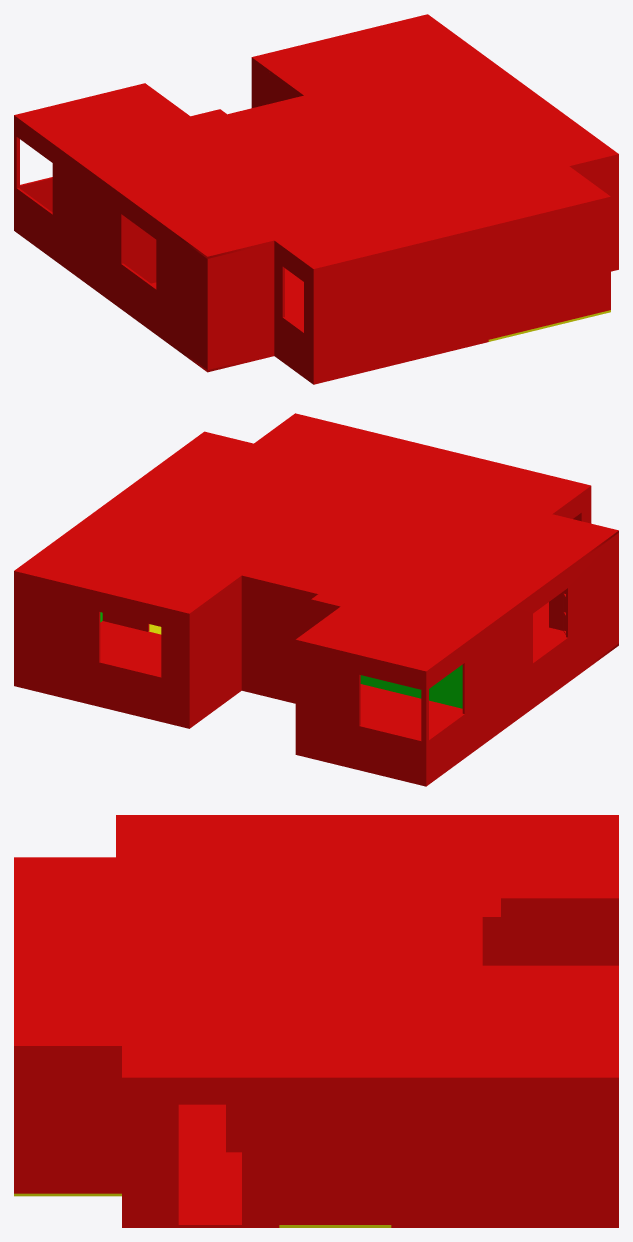
The model's file is target_house_03_grp.fbx.
3 views of the same model, one above another, from view 1: azimuth 30°, elevation 25°; view 2: azimuth 150°, elevation 25°; view 3: azimuth 270°, elevation 25° (orthographic). The views are drawn at different scales.
Parts seen in each view (by area): view 1: target_house_03_ceiling, target_house_03_walls, target_house_03_floor; view 2: target_house_03_ceiling, target_house_03_walls, target_house_03_floor; view 3: target_house_03_ceiling, target_house_03_walls, target_house_03_floor.
Part boxes in pixels (x1=…): target_house_03_ceiling: x1=14, y1=14, x2=618, y2=271; target_house_03_walls: x1=14, y1=60, x2=618, y2=382; target_house_03_floor: x1=14, y1=229, x2=618, y2=384; target_house_03_ceiling: x1=14, y1=413, x2=618, y2=673; target_house_03_walls: x1=14, y1=488, x2=618, y2=784; target_house_03_floor: x1=14, y1=602, x2=618, y2=786; target_house_03_ceiling: x1=14, y1=815, x2=618, y2=1097; target_house_03_walls: x1=14, y1=901, x2=618, y2=1224; target_house_03_floor: x1=14, y1=1104, x2=618, y2=1227.
Bounding box in the file's own units: 970 × 259 × 945.
